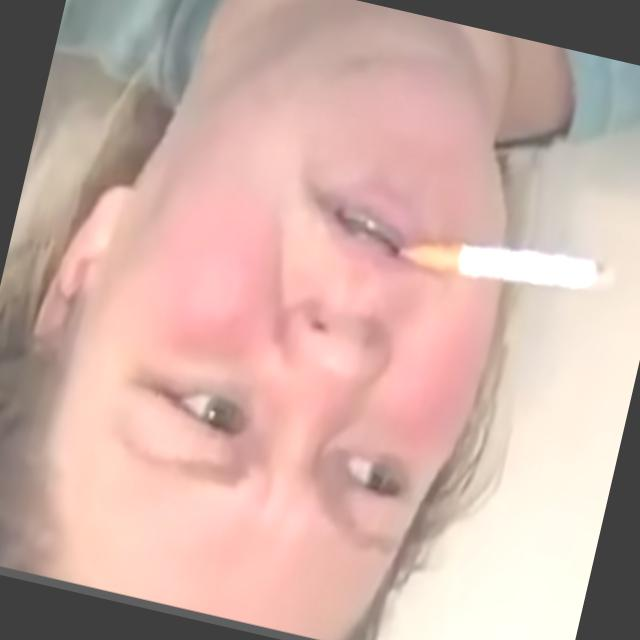smoke: (396, 188, 618, 300)
